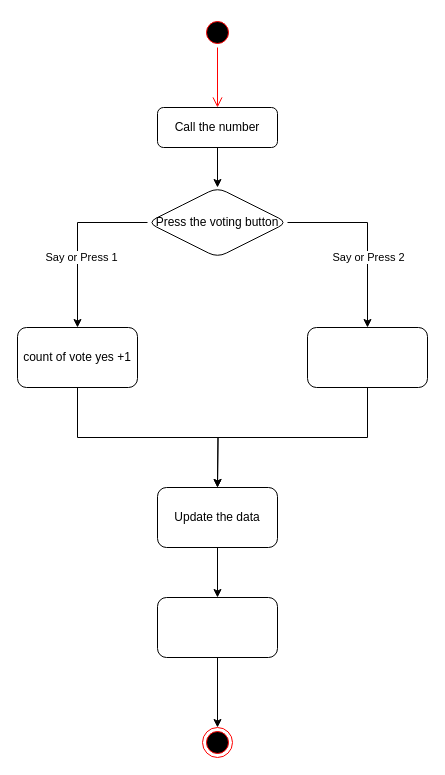
Image size: 445x775. Some labels were removed from this diagram. The centre of each missing label's shape, as x and y in pixels:
"count of vote no +1" goes at (x=367, y=357).
"End" goes at (x=217, y=627).
